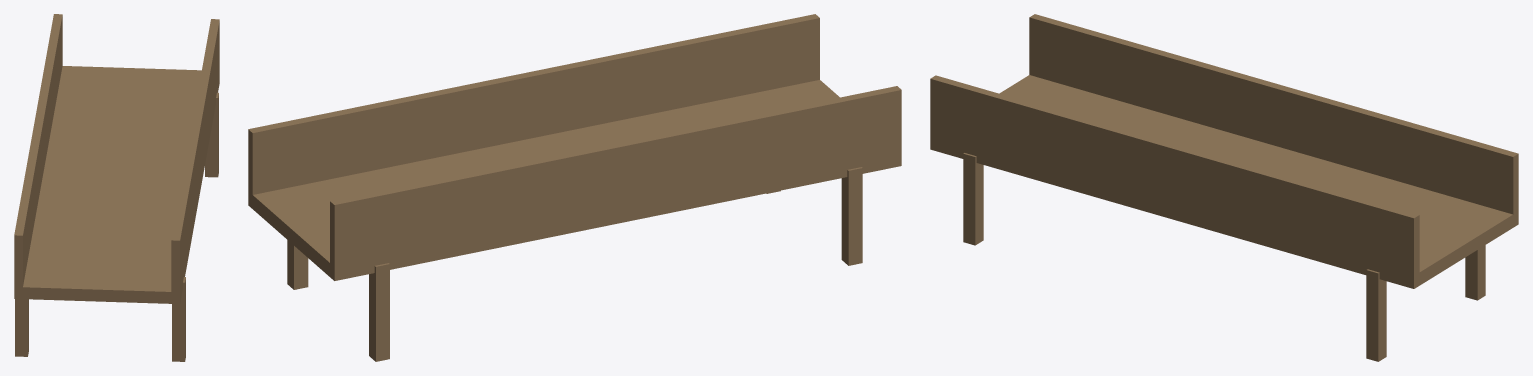
The model's file is ranch_valley_bridge.glb.
3 renders of one model, left to right at view 1: azimuth 30°, elevation 25°; view 2: azimuth 150°, elevation 25°; view 3: azimuth 270°, elevation 25°, orthographic. The views are drawn at different scales.
Visible parts, largest first — view 1: valley_footbridge_deck-col, valley_rail_-1-col, valley_rail_1-col, valley_support_-1_11.000000000000021-col, valley_support_1_11.000000000000021-col, valley_support_-1_1-col; view 2: valley_rail_-1-col, valley_rail_1-col, valley_footbridge_deck-col, valley_support_1_11.000000000000021-col, valley_support_1_1-col, valley_support_-1_1-col; view 3: valley_rail_1-col, valley_rail_-1-col, valley_footbridge_deck-col, valley_support_-1_1-col, valley_support_-1_11.000000000000021-col, valley_support_1_1-col.
Part boxes in pixels (x1,y1,x2,y2): valley_footbridge_deck-col: (14,66,219,304); valley_rail_-1-col: (171,19,219,292); valley_rail_1-col: (14,14,62,287); valley_support_-1_11.000000000000021-col: (172,277,185,361); valley_support_1_11.000000000000021-col: (15,299,28,356); valley_support_-1_1-col: (205,92,218,177); valley_rail_-1-col: (248,14,819,194); valley_rail_1-col: (330,86,901,266); valley_footbridge_deck-col: (248,80,901,280); valley_support_1_11.000000000000021-col: (841,167,862,265); valley_support_1_1-col: (369,263,389,361); valley_support_-1_1-col: (287,240,308,289); valley_rail_1-col: (1029,14,1518,214); valley_rail_-1-col: (930,75,1419,275); valley_footbridge_deck-col: (930,75,1518,288); valley_support_-1_1-col: (1366,269,1386,361); valley_support_-1_11.000000000000021-col: (963,153,983,245); valley_support_1_1-col: (1465,245,1485,300).
Bounding box in the file's own units: 9.91 × 3.45 × 12.05.
